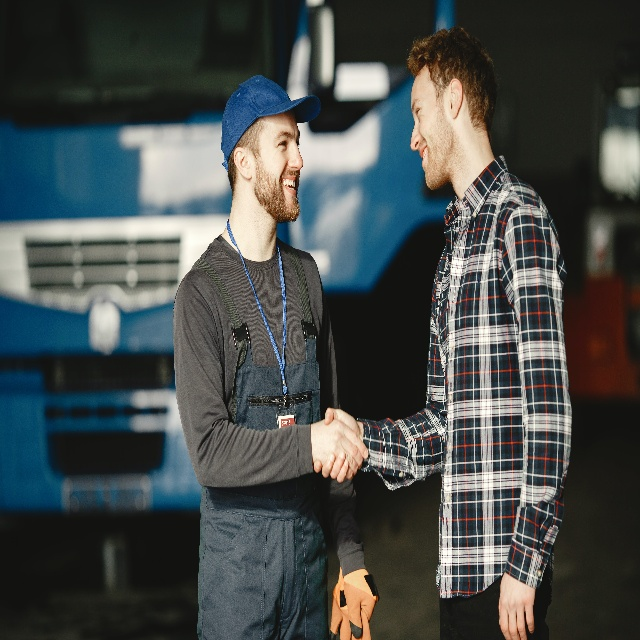Guantes: (343, 573, 379, 635), (329, 578, 345, 640)
Sin_guantes: (313, 400, 369, 482), (496, 566, 537, 640)
